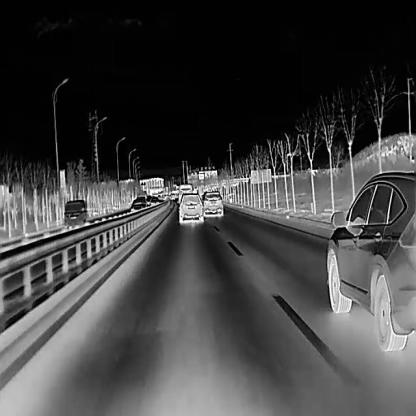bus: (178, 183, 192, 204)
car: (325, 165, 415, 353), (176, 192, 202, 223), (62, 197, 86, 230), (201, 190, 223, 217), (129, 197, 147, 214), (148, 196, 158, 207)
